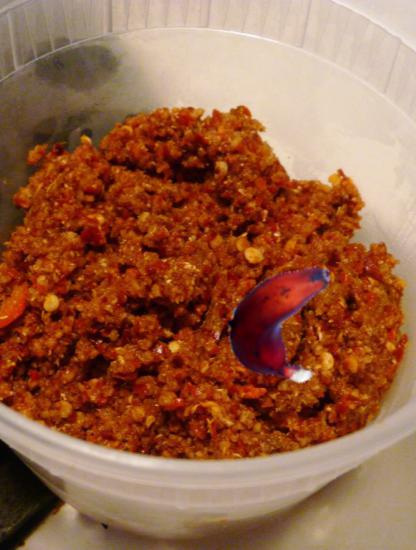Banana: (220, 255, 346, 381)
